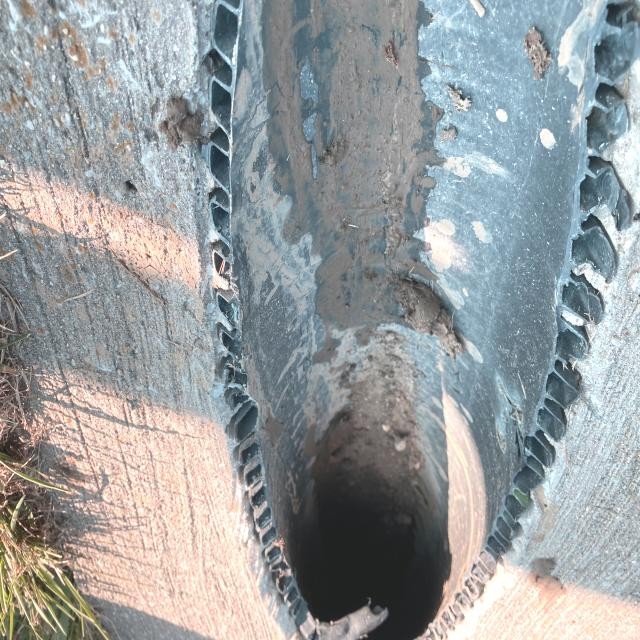dirt: (308, 0, 417, 318), (322, 375, 420, 522), (391, 288, 460, 342)
